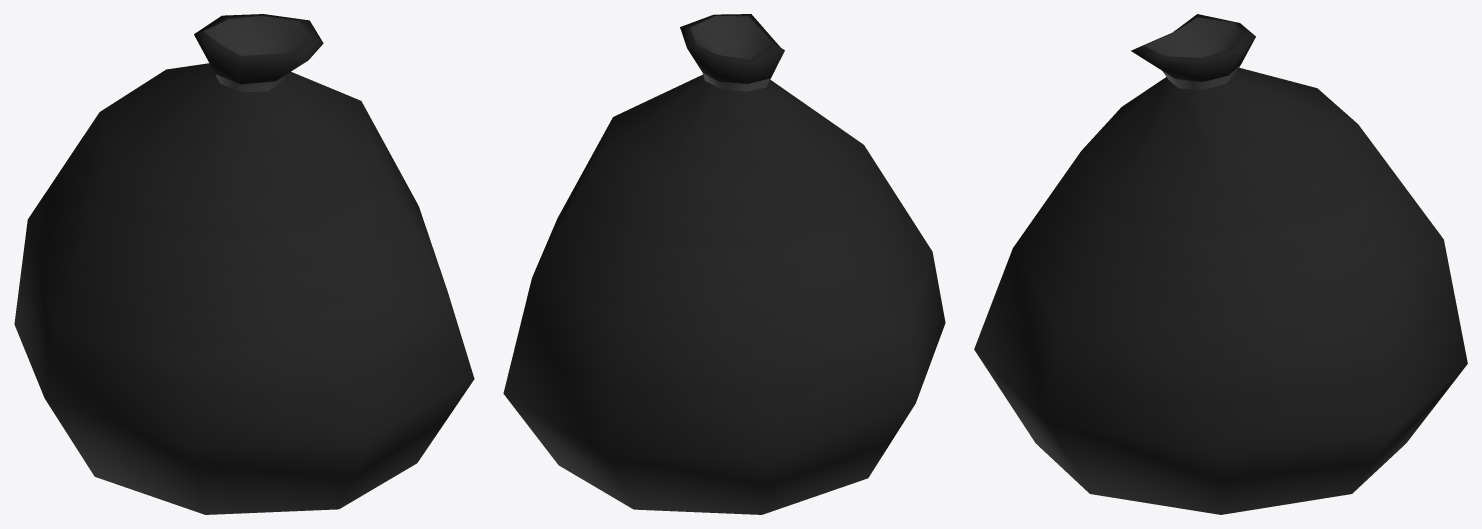
The model's file is Trashbag_B_2.fbx.
3 renders of one model, left to right at view 1: azimuth 30°, elevation 25°; view 2: azimuth 150°, elevation 25°; view 3: azimuth 270°, elevation 25°, orthographic. The views are drawn at different scales.
Visible parts, largest first — view 1: Trashbag_B_2; view 2: Trashbag_B_2; view 3: Trashbag_B_2.
Part boxes in pixels (x1,y1,x2,y2): Trashbag_B_2: (14, 14, 474, 514); Trashbag_B_2: (503, 14, 945, 514); Trashbag_B_2: (974, 14, 1467, 514).
Bounding box in the file's own units: 43.35 × 43.07 × 47.36.
